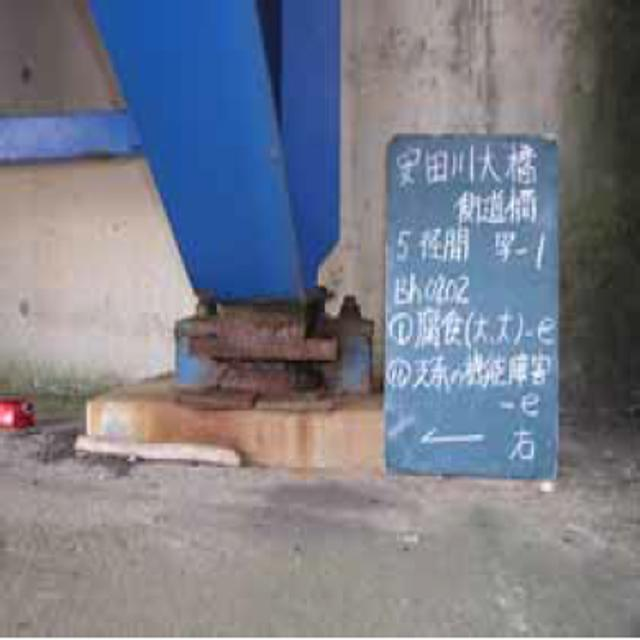corrosion: (173, 274, 378, 480)
